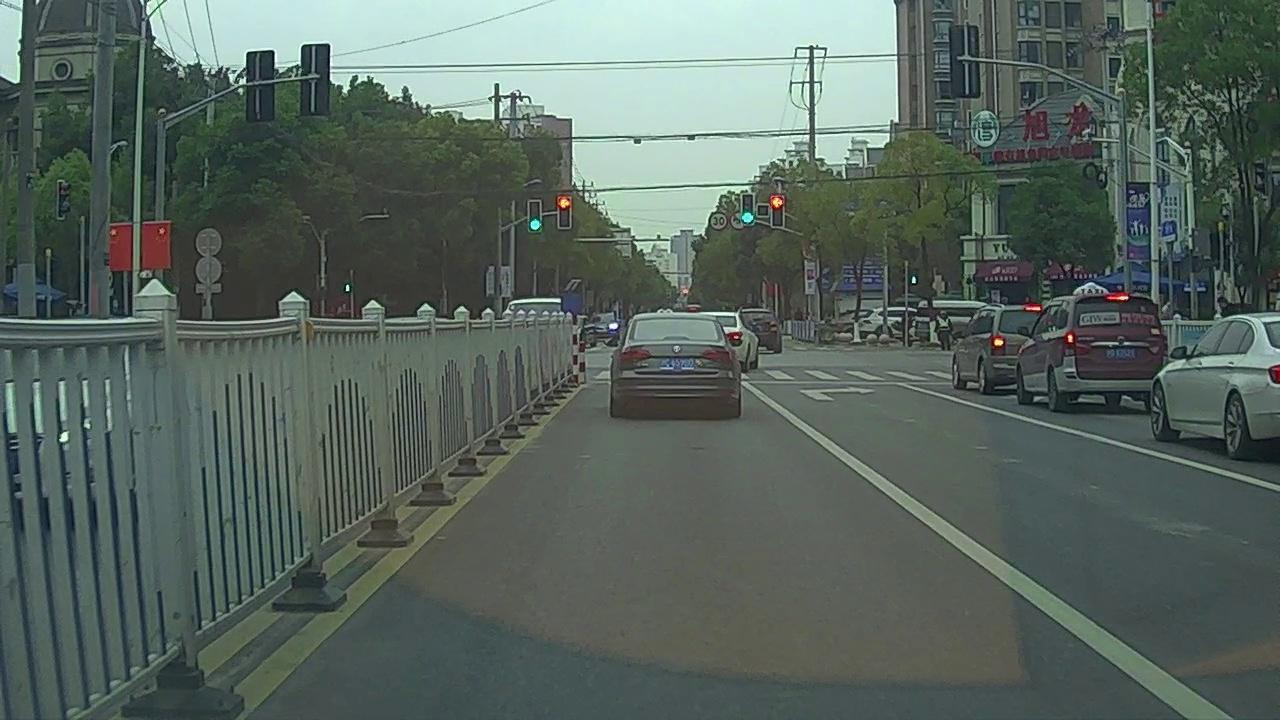traffic_light: (557, 196, 570, 228), (742, 193, 754, 225), (528, 199, 540, 230), (772, 196, 783, 227)
